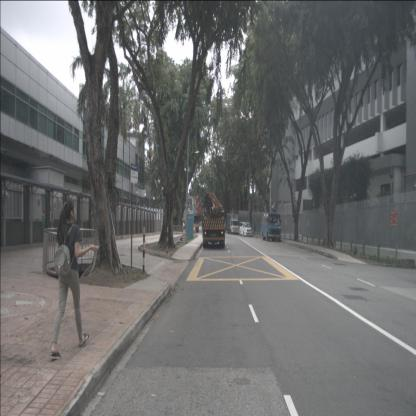human-pedestrian-adult: (49, 198, 99, 360), (254, 222, 256, 236)
vehicle-car: (261, 212, 281, 242), (239, 222, 252, 236), (178, 223, 186, 230)
vehicle-truck: (226, 213, 239, 234), (190, 215, 200, 232)
